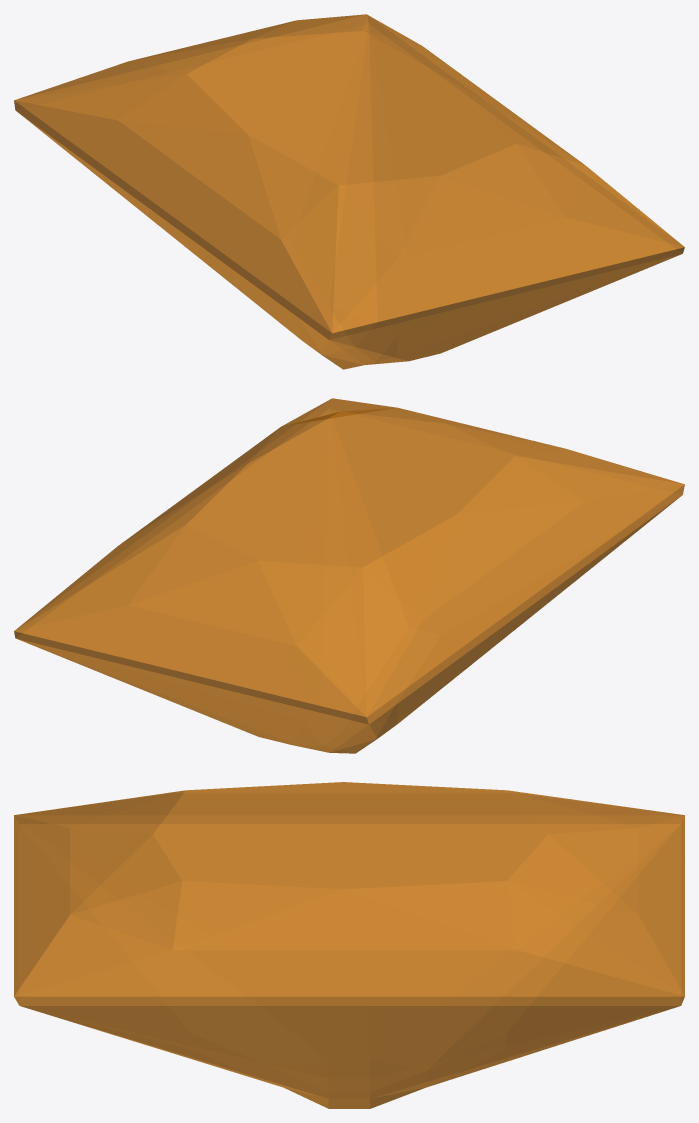
The model's file is november2.fbx.
The picture shows the model from 3 angles, top to bottom: view 1: azimuth 30°, elevation 25°; view 2: azimuth 150°, elevation 25°; view 3: azimuth 270°, elevation 25°; orthographic projection. The views are drawn at different scales.
Parts seen in each view (by area): view 1: orange_top; view 2: orange_top; view 3: orange_top.
Part boxes in pixels (x1,y1,x2,y2): orange_top: [14, 14, 684, 369]; orange_top: [14, 398, 684, 753]; orange_top: [14, 782, 684, 1108].
Size of the model in its own units: 822 by 558 by 1280.
